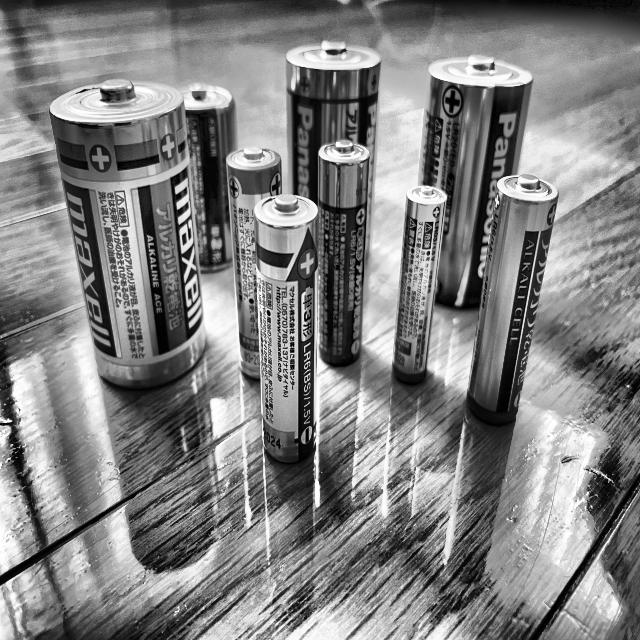drycell: (47, 78, 206, 393), (419, 55, 533, 307), (469, 174, 559, 424), (286, 40, 380, 263), (254, 193, 318, 463), (226, 146, 282, 379), (318, 138, 370, 365), (393, 185, 447, 383), (180, 82, 236, 271)
